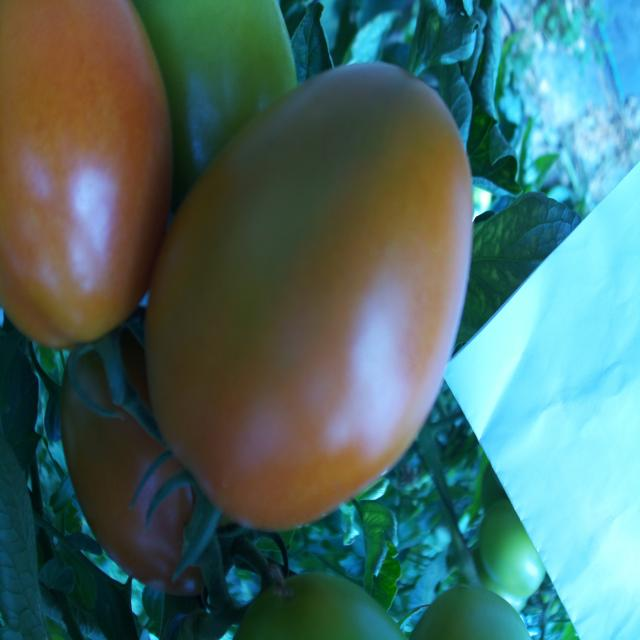yesil: (128, 23, 497, 537)
